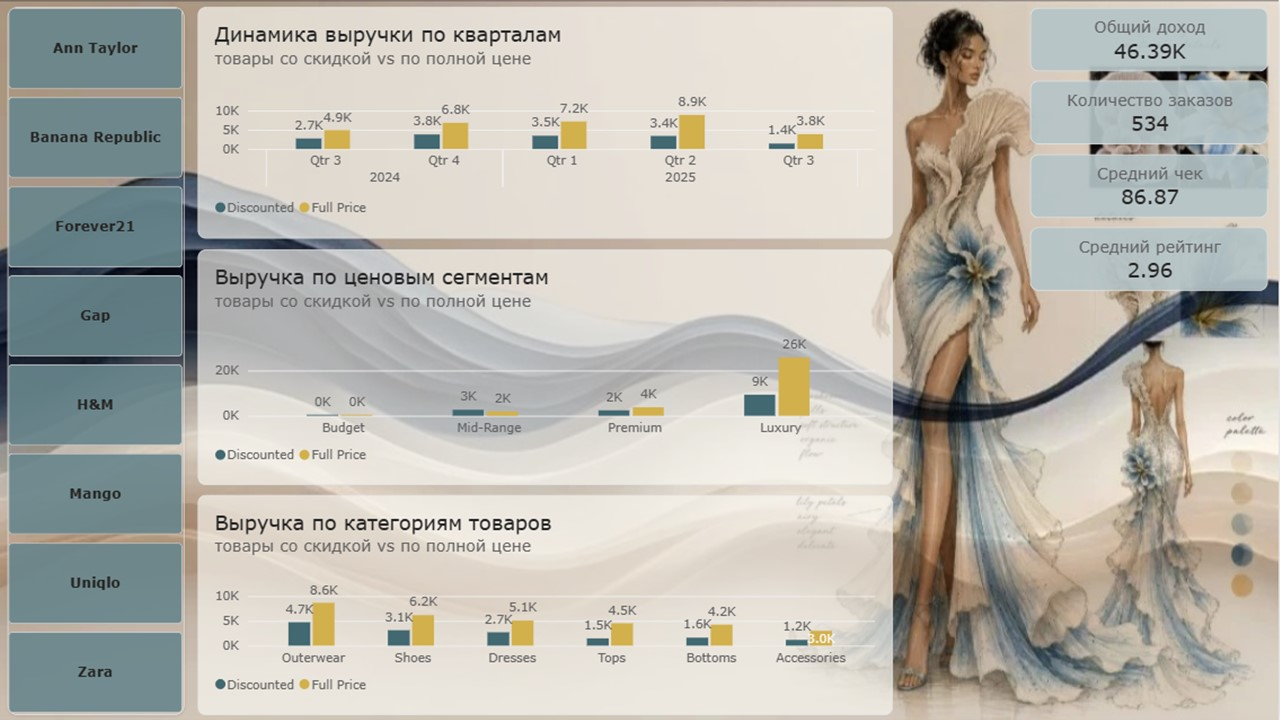

The dashboard page shown, as its layout file describes it:
{"tool":"powerbi","page":{"name":"Page 1","canvas":[1280,720],"ordinal":0},"visuals":[{"type":"advancedSlicerVisual","fields":{"Values":["fashion_boutique_dataset.brand"],"Label":["CountNonNull(Calendar.Date.Variation.Date Hierarchy.Day)"]},"box":[9.9,7,176.7,706.9],"z":0},{"type":"clusteredColumnChart","title":"Динамика выручки по кварталам","fields":{"Category":["Calendar.Date.Variation.Date Hierarchy.Year","Calendar.Date.Variation.Date Hierarchy.Quarter"],"Y":["_Measures.Total_Revenue"],"Series":["fashion_boutique_dataset.markdown_flag"]},"box":[200,7,694.4,231],"z":1000},{"type":"clusteredColumnChart","title":"Выручка по категориям товаров","fields":{"Y":["_Measures.Total_Revenue"],"Series":["fashion_boutique_dataset.markdown_flag"],"Category":["fashion_boutique_dataset.category"]},"box":[200,494.4,694.4,219.7],"z":2000},{"type":"cardVisual","fields":{"Data":["_Measures.Total_Revenue","_Measures.Total_Orders","_Measures.Avg_Order_Value","_Measures.Avg_Rating"]},"box":[1031,7,239.4,285.9],"z":3000},{"type":"clusteredColumnChart","title":"Выручка по ценовым сегментам","fields":{"Y":["_Measures.Total_Revenue"],"Series":["fashion_boutique_dataset.markdown_flag"],"Category":["dim_price.price_tier"]},"box":[200,249.3,694.4,235.2],"z":4000}]}

Visuals, with their boxes in screenshot pixels (x1, y1, x2, y2), scaled from the page's 1280x720 canvas onto the 1280x720 screenshot:
advancedSlicerVisual - fashion_boutique_dataset.brand x CountNonNull(Calendar.Date.Variation.Date Hierarchy.Day): bbox(10, 7, 187, 714)
"Динамика выручки по кварталам" clusteredColumnChart: bbox(200, 7, 894, 238)
"Выручка по категориям товаров" clusteredColumnChart: bbox(200, 494, 894, 714)
cardVisual - _Measures.Total_Revenue x _Measures.Total_Orders: bbox(1031, 7, 1270, 293)
"Выручка по ценовым сегментам" clusteredColumnChart: bbox(200, 249, 894, 484)
